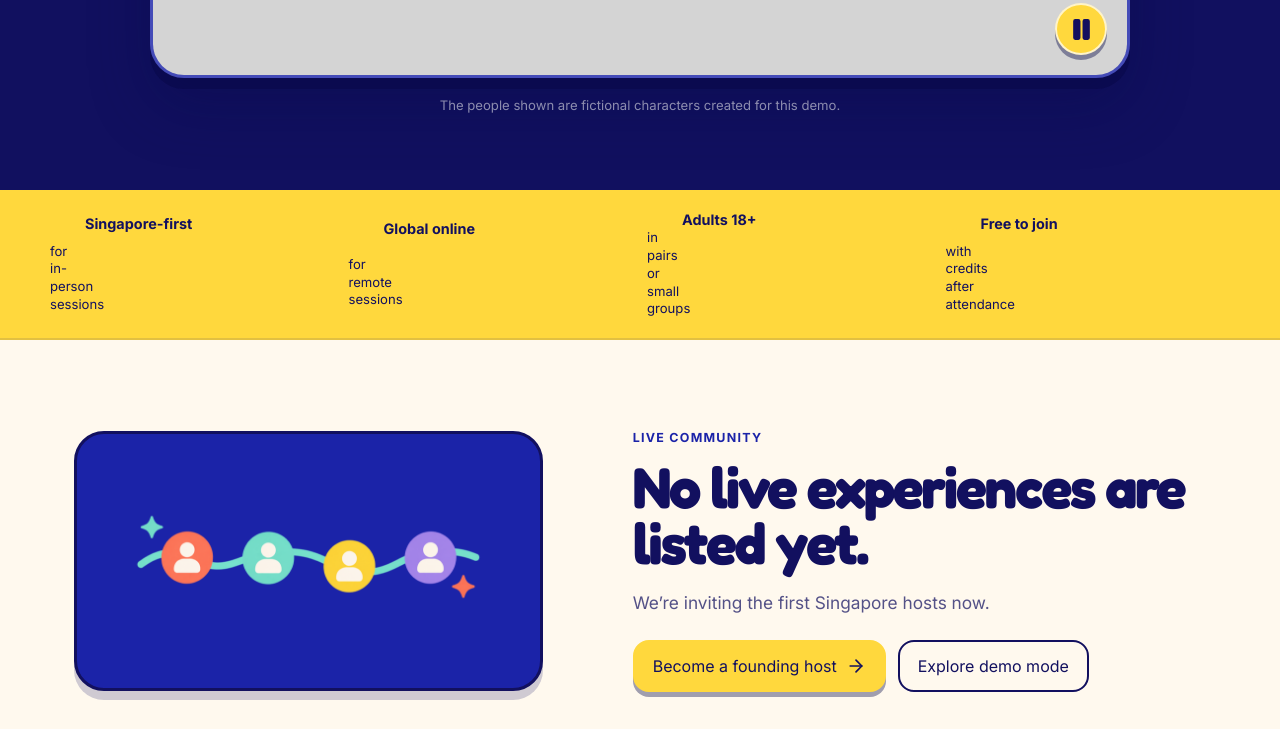
Test: public experiences marketplace › enters and leaves Demo mode
(page scrolled)
Click the button "Explore demo mode" at point(993, 666), box 898,640 -> 1089,692
(page scrolled)
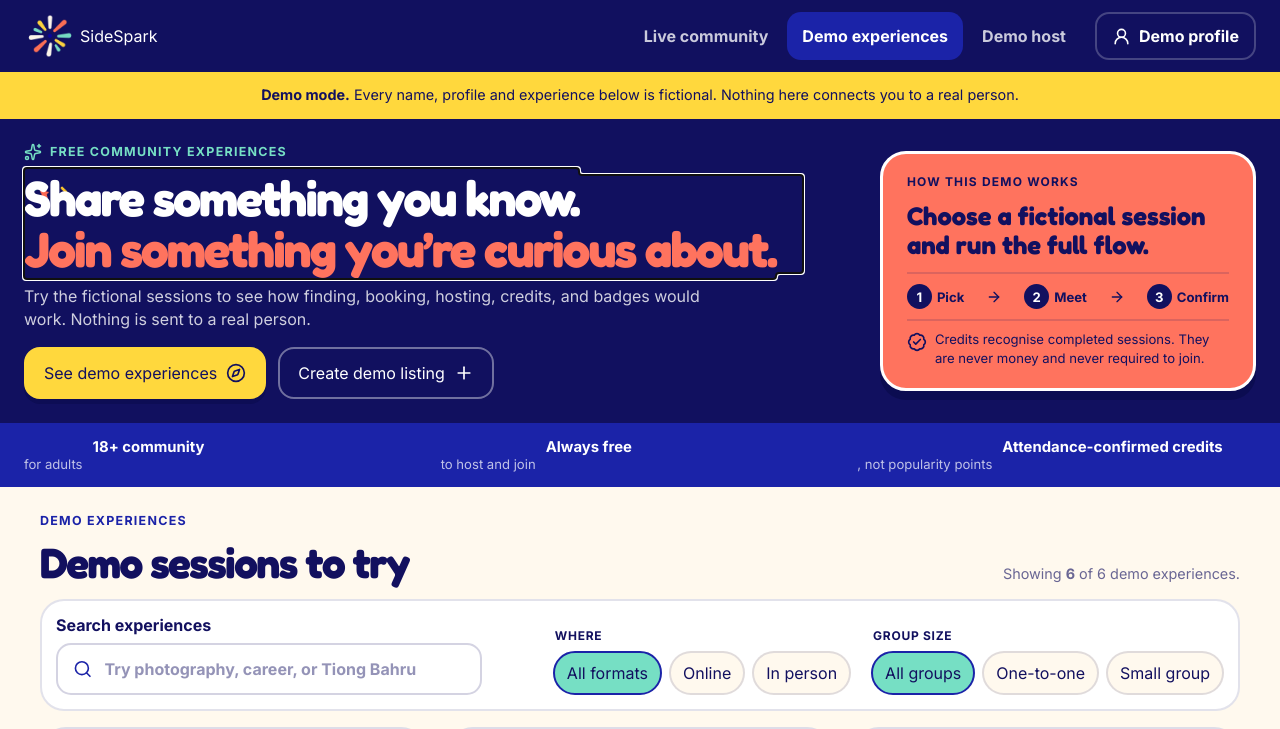
Now the message shows "Every name, profile and experience below is fictional", box 350,86 -> 1019,103
Now the button "Demo experiences" is shown, box 787,12 -> 963,60
Click the button "Live community" at point(706, 36), box 629,12 -> 783,60
(page scrolled)
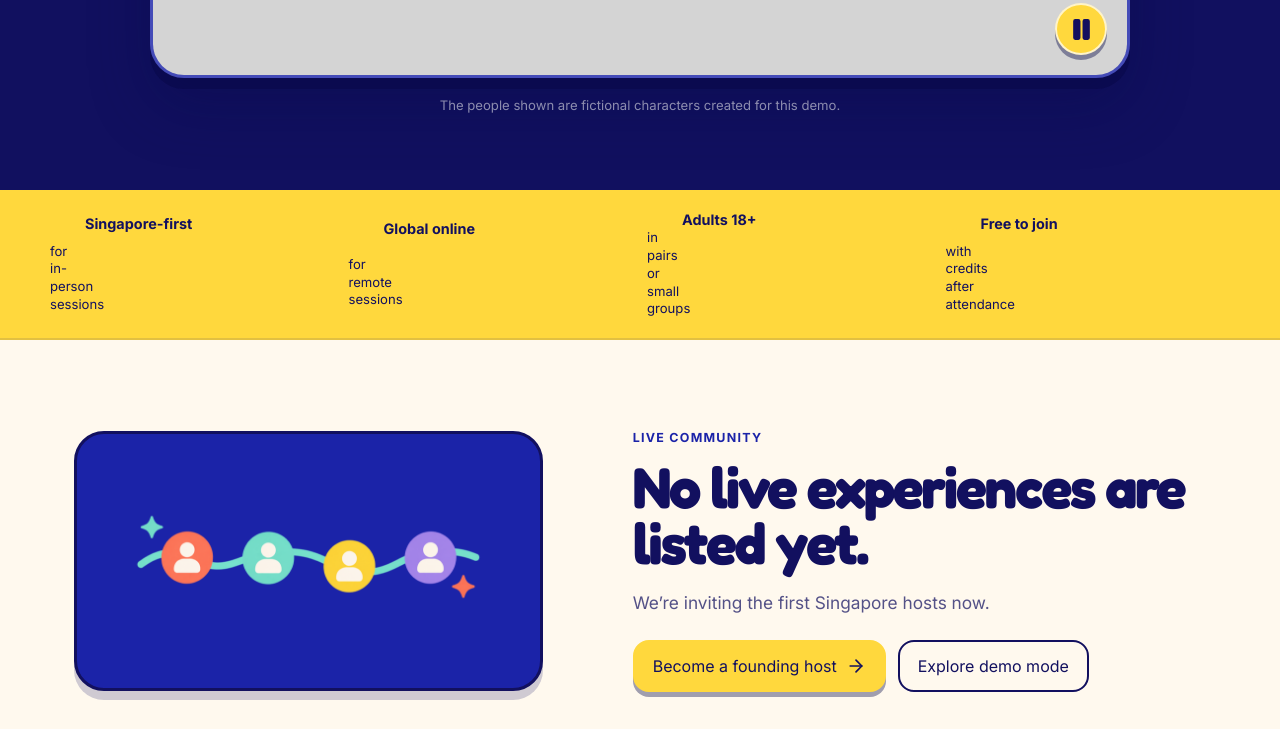
Now the heading "No live experiences are listed yet." is shown, box 633,459 -> 1206,572
